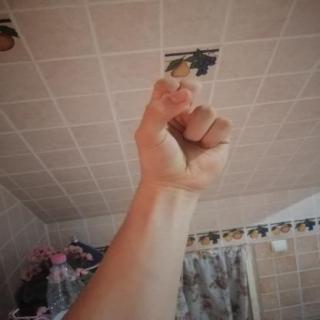QAAF: (117, 68, 250, 198)
